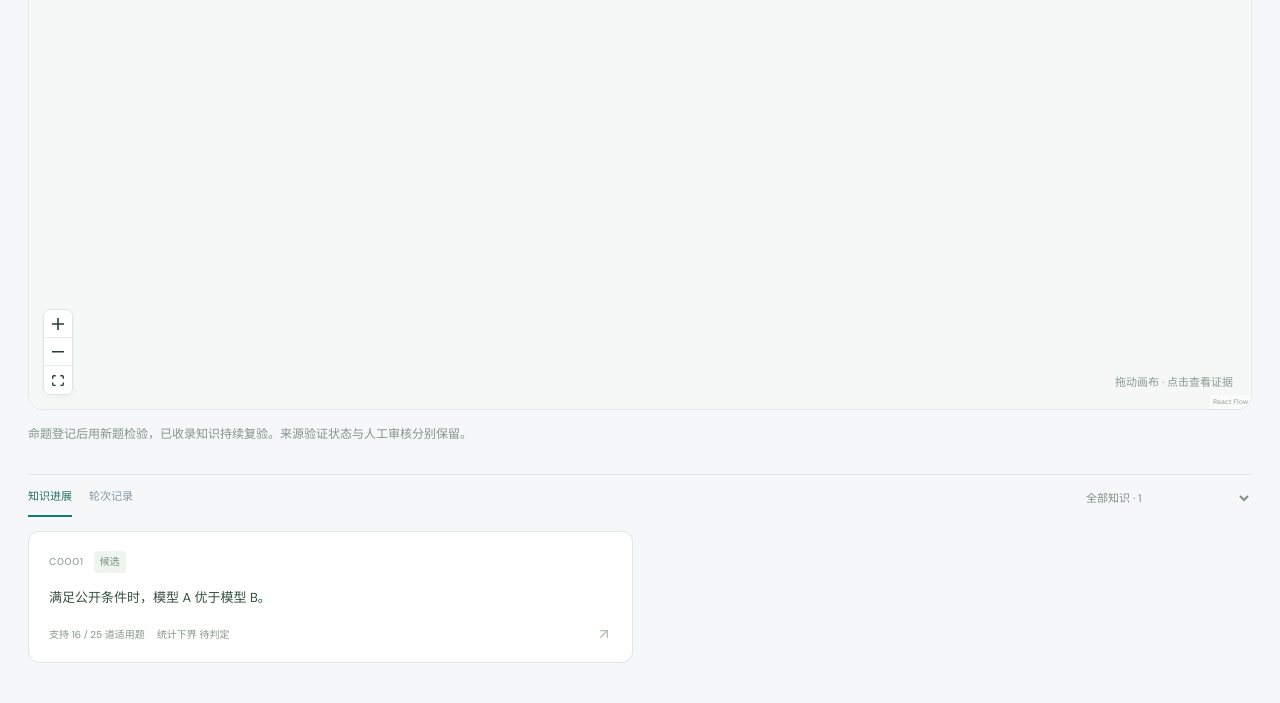
Test: reads conditions and stored comparisons without treating evidence aliases as answer letters
The width and height of the screenshot is (1280, 703).
(page scrolled)
Step 1. Click the button with aria-label "阅读命题 C0001" → point(66, 562), box [28, 531, 633, 663]
(page scrolled)
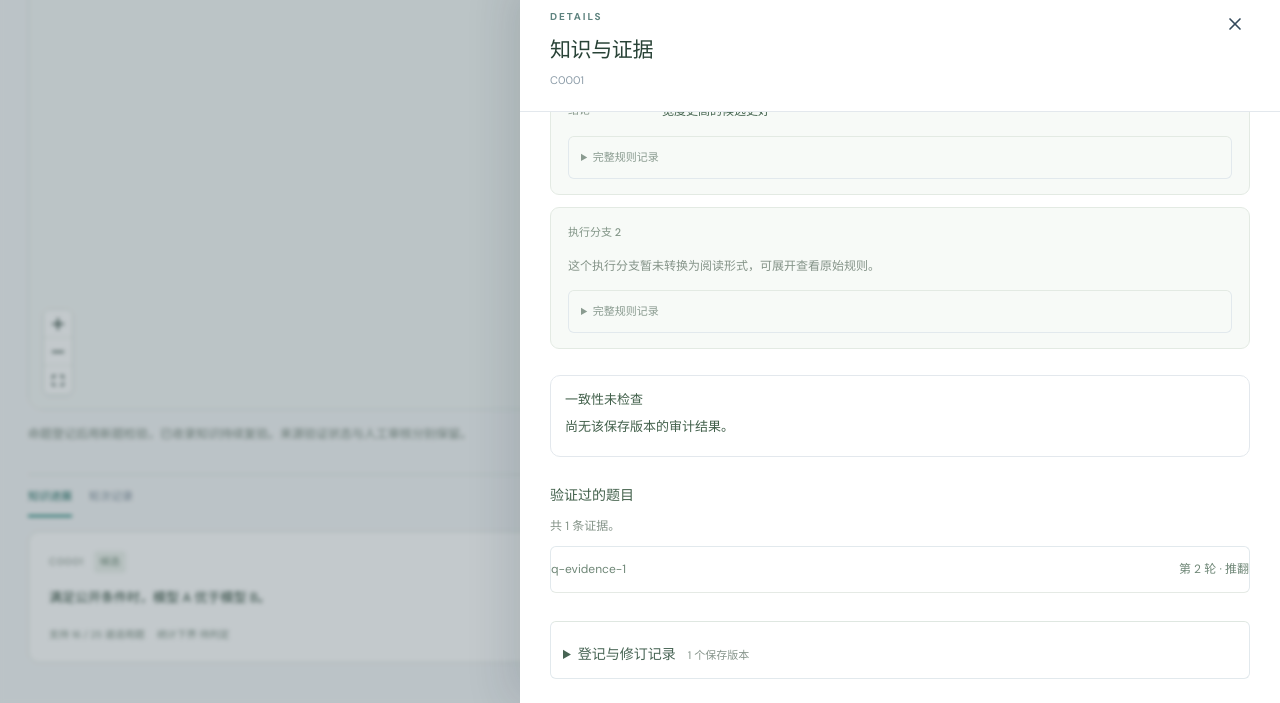
Expected: the text "这个执行分支暂未转换为阅读形式，可展开查看原始规则。" is shown, [568, 258, 880, 274]
Step 2. Click the heading "q-evidence-1 第 2 轮 · 推翻" → point(588, 569), box [551, 559, 1249, 580]
(page scrolled)
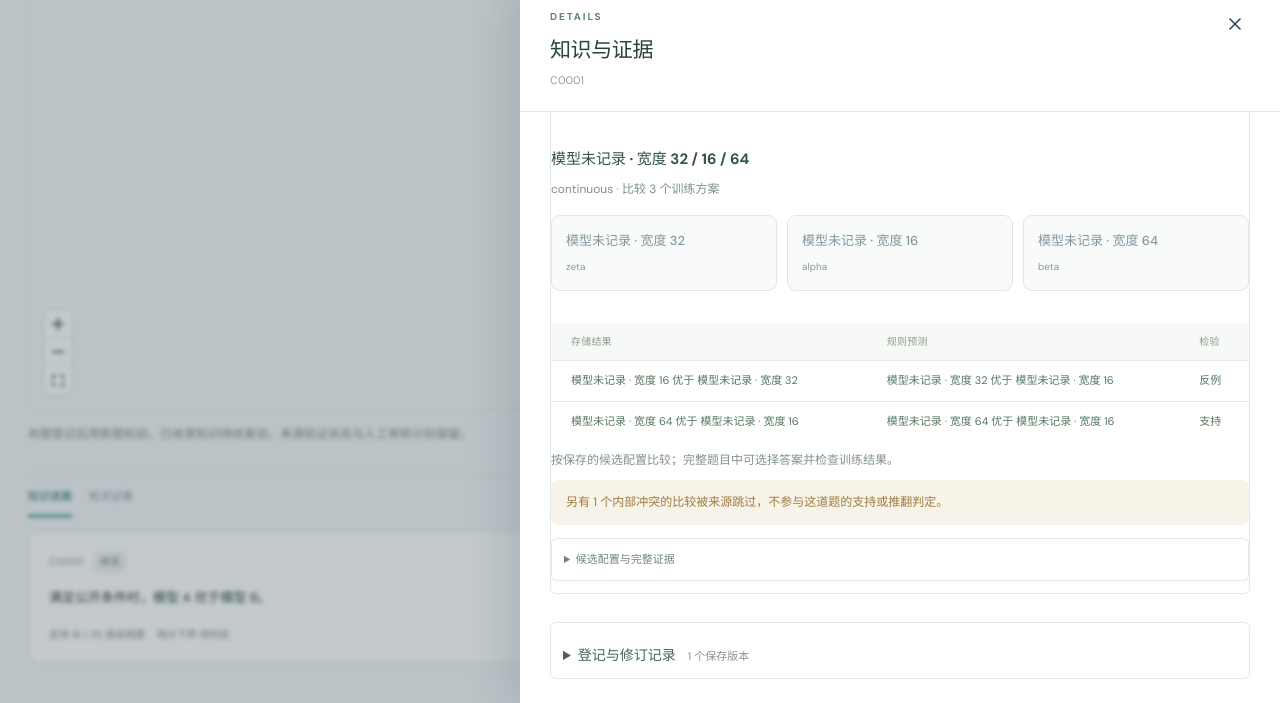
Expected: the number of rows is 3, [551, 323, 1249, 361]; [551, 361, 1249, 402]; [551, 402, 1249, 442]
Expected: the row that starts with "模型未记录 · 宽度 16 优于 模型未记录 · 宽度 32" reads "模型未记录 · 宽度 16 优于 模型未记录 · 宽度 32 模型未记录 · 宽度 32 优于 模型未记录 · 宽度 16 反例", [551, 361, 1249, 402]
Expected: the row that starts with "模型未记录 · 宽度 64 优于 模型未记录 · 宽度 16" reads "模型未记录 · 宽度 64 优于 模型未记录 · 宽度 16 模型未记录 · 宽度 64 优于 模型未记录 · 宽度 16 支持", [551, 402, 1249, 442]
